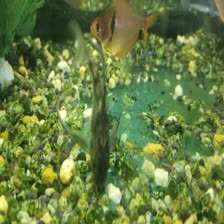Kiros: (50, 29, 146, 194)
